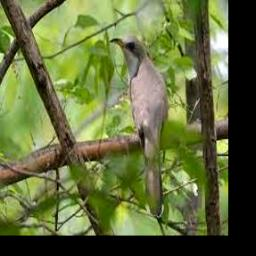Cuckoo: (110, 38, 169, 217)
